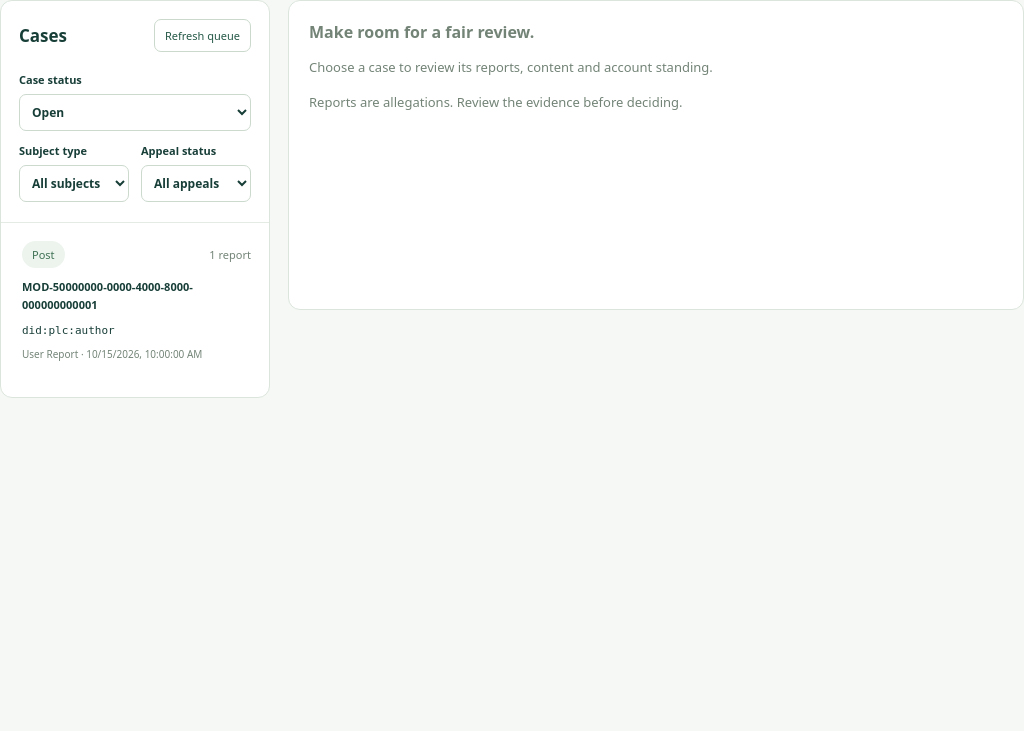
it: transport failure keeps navigation locked and retries the same reviewed body after hash navigation
The width and height of the screenshot is (1024, 731).
Step 1. Click the link with aria-label "Review MOD-50000000-0000-4000-8000-000000000001" → (43,254), box [1,223,269,379]
(page scrolled)
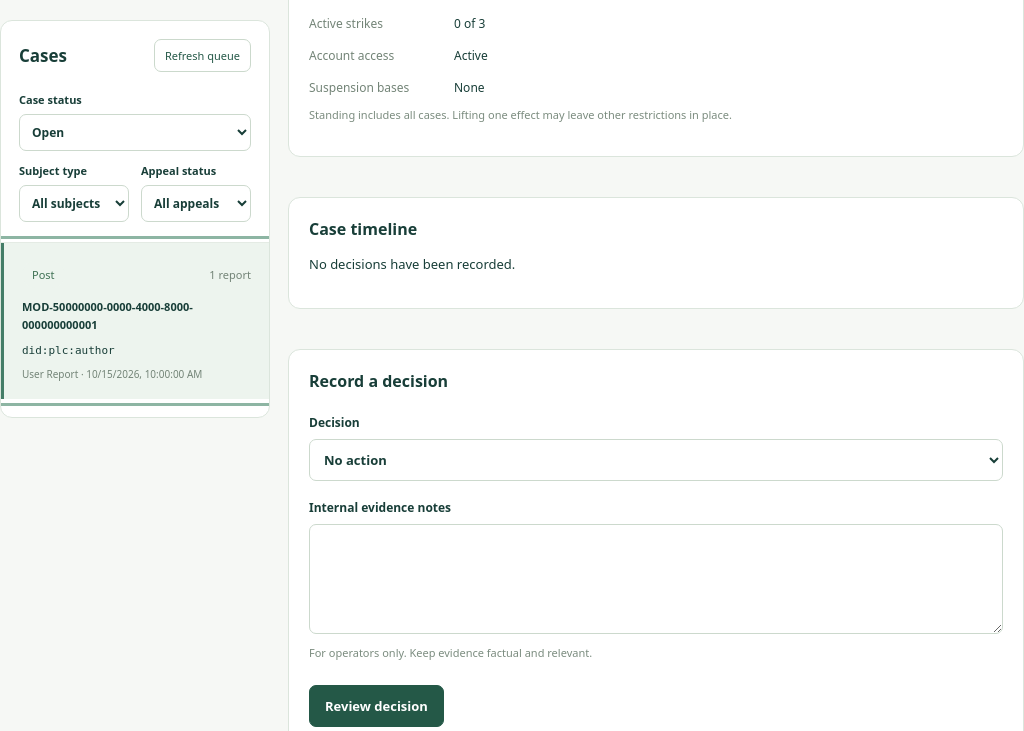
Step 2. Click the button "Review decision" → (376,706), box [309,685,444,727]
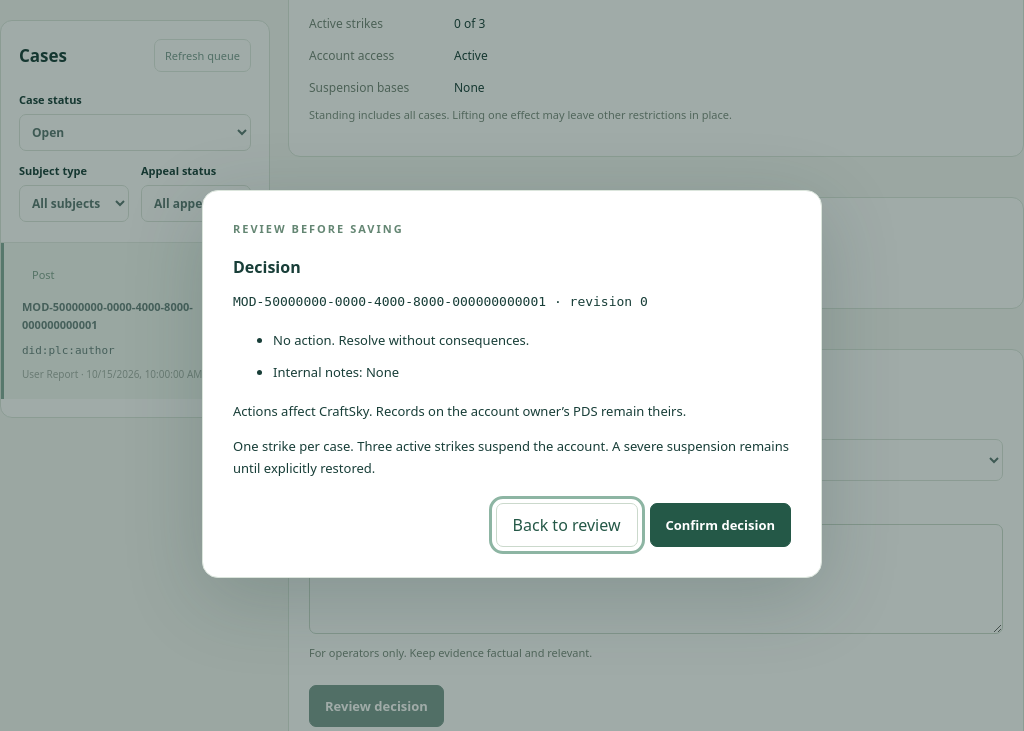
Step 3. Click the button "Confirm decision" → (720,525), box [650,503,791,547]
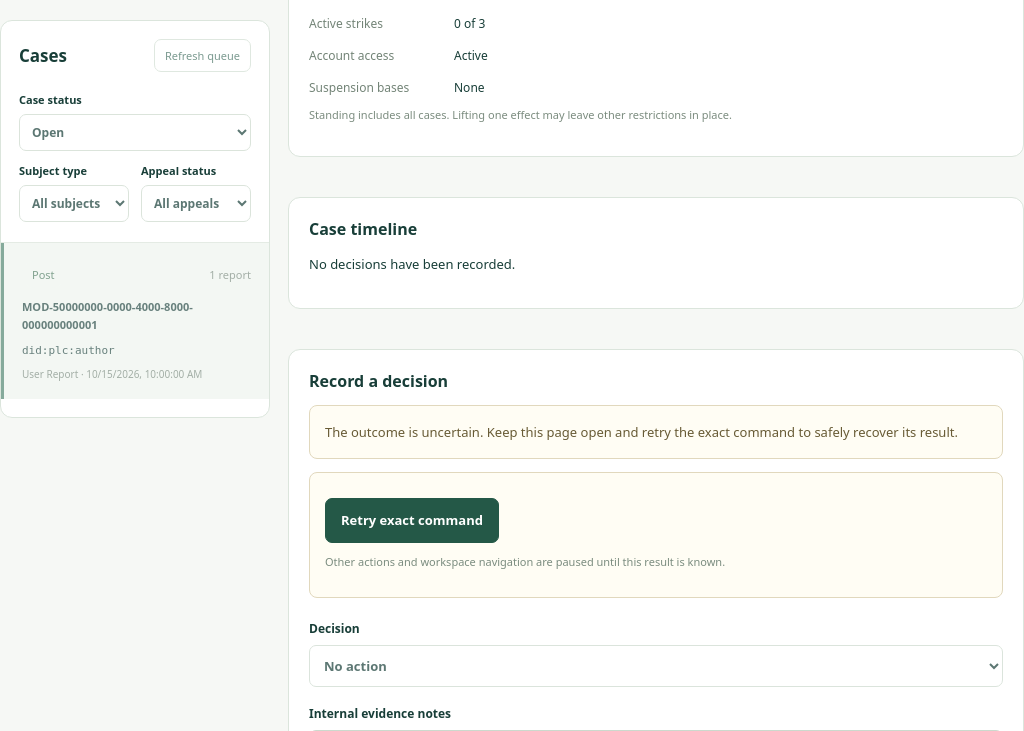
Expected: the button "Retry exact command" is shown
Step 4. Click the button "Retry exact command" → (412,520), box [325,498,499,543]
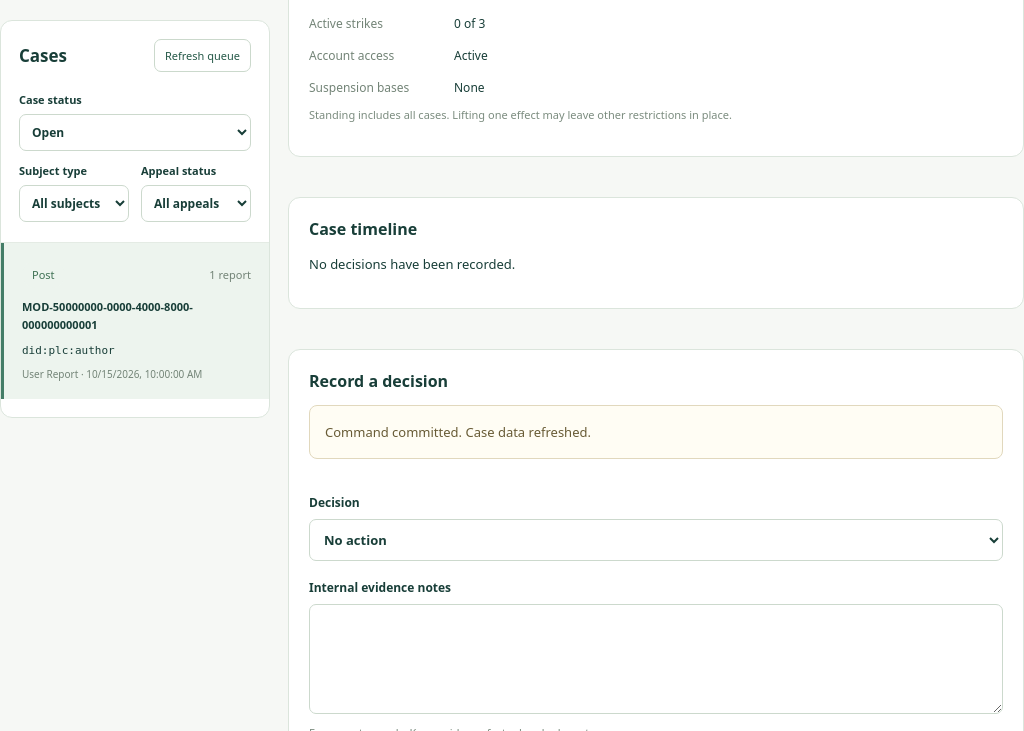
Expected: the text "Command committed. Case data refreshed." is shown, [309,405,1003,459]
